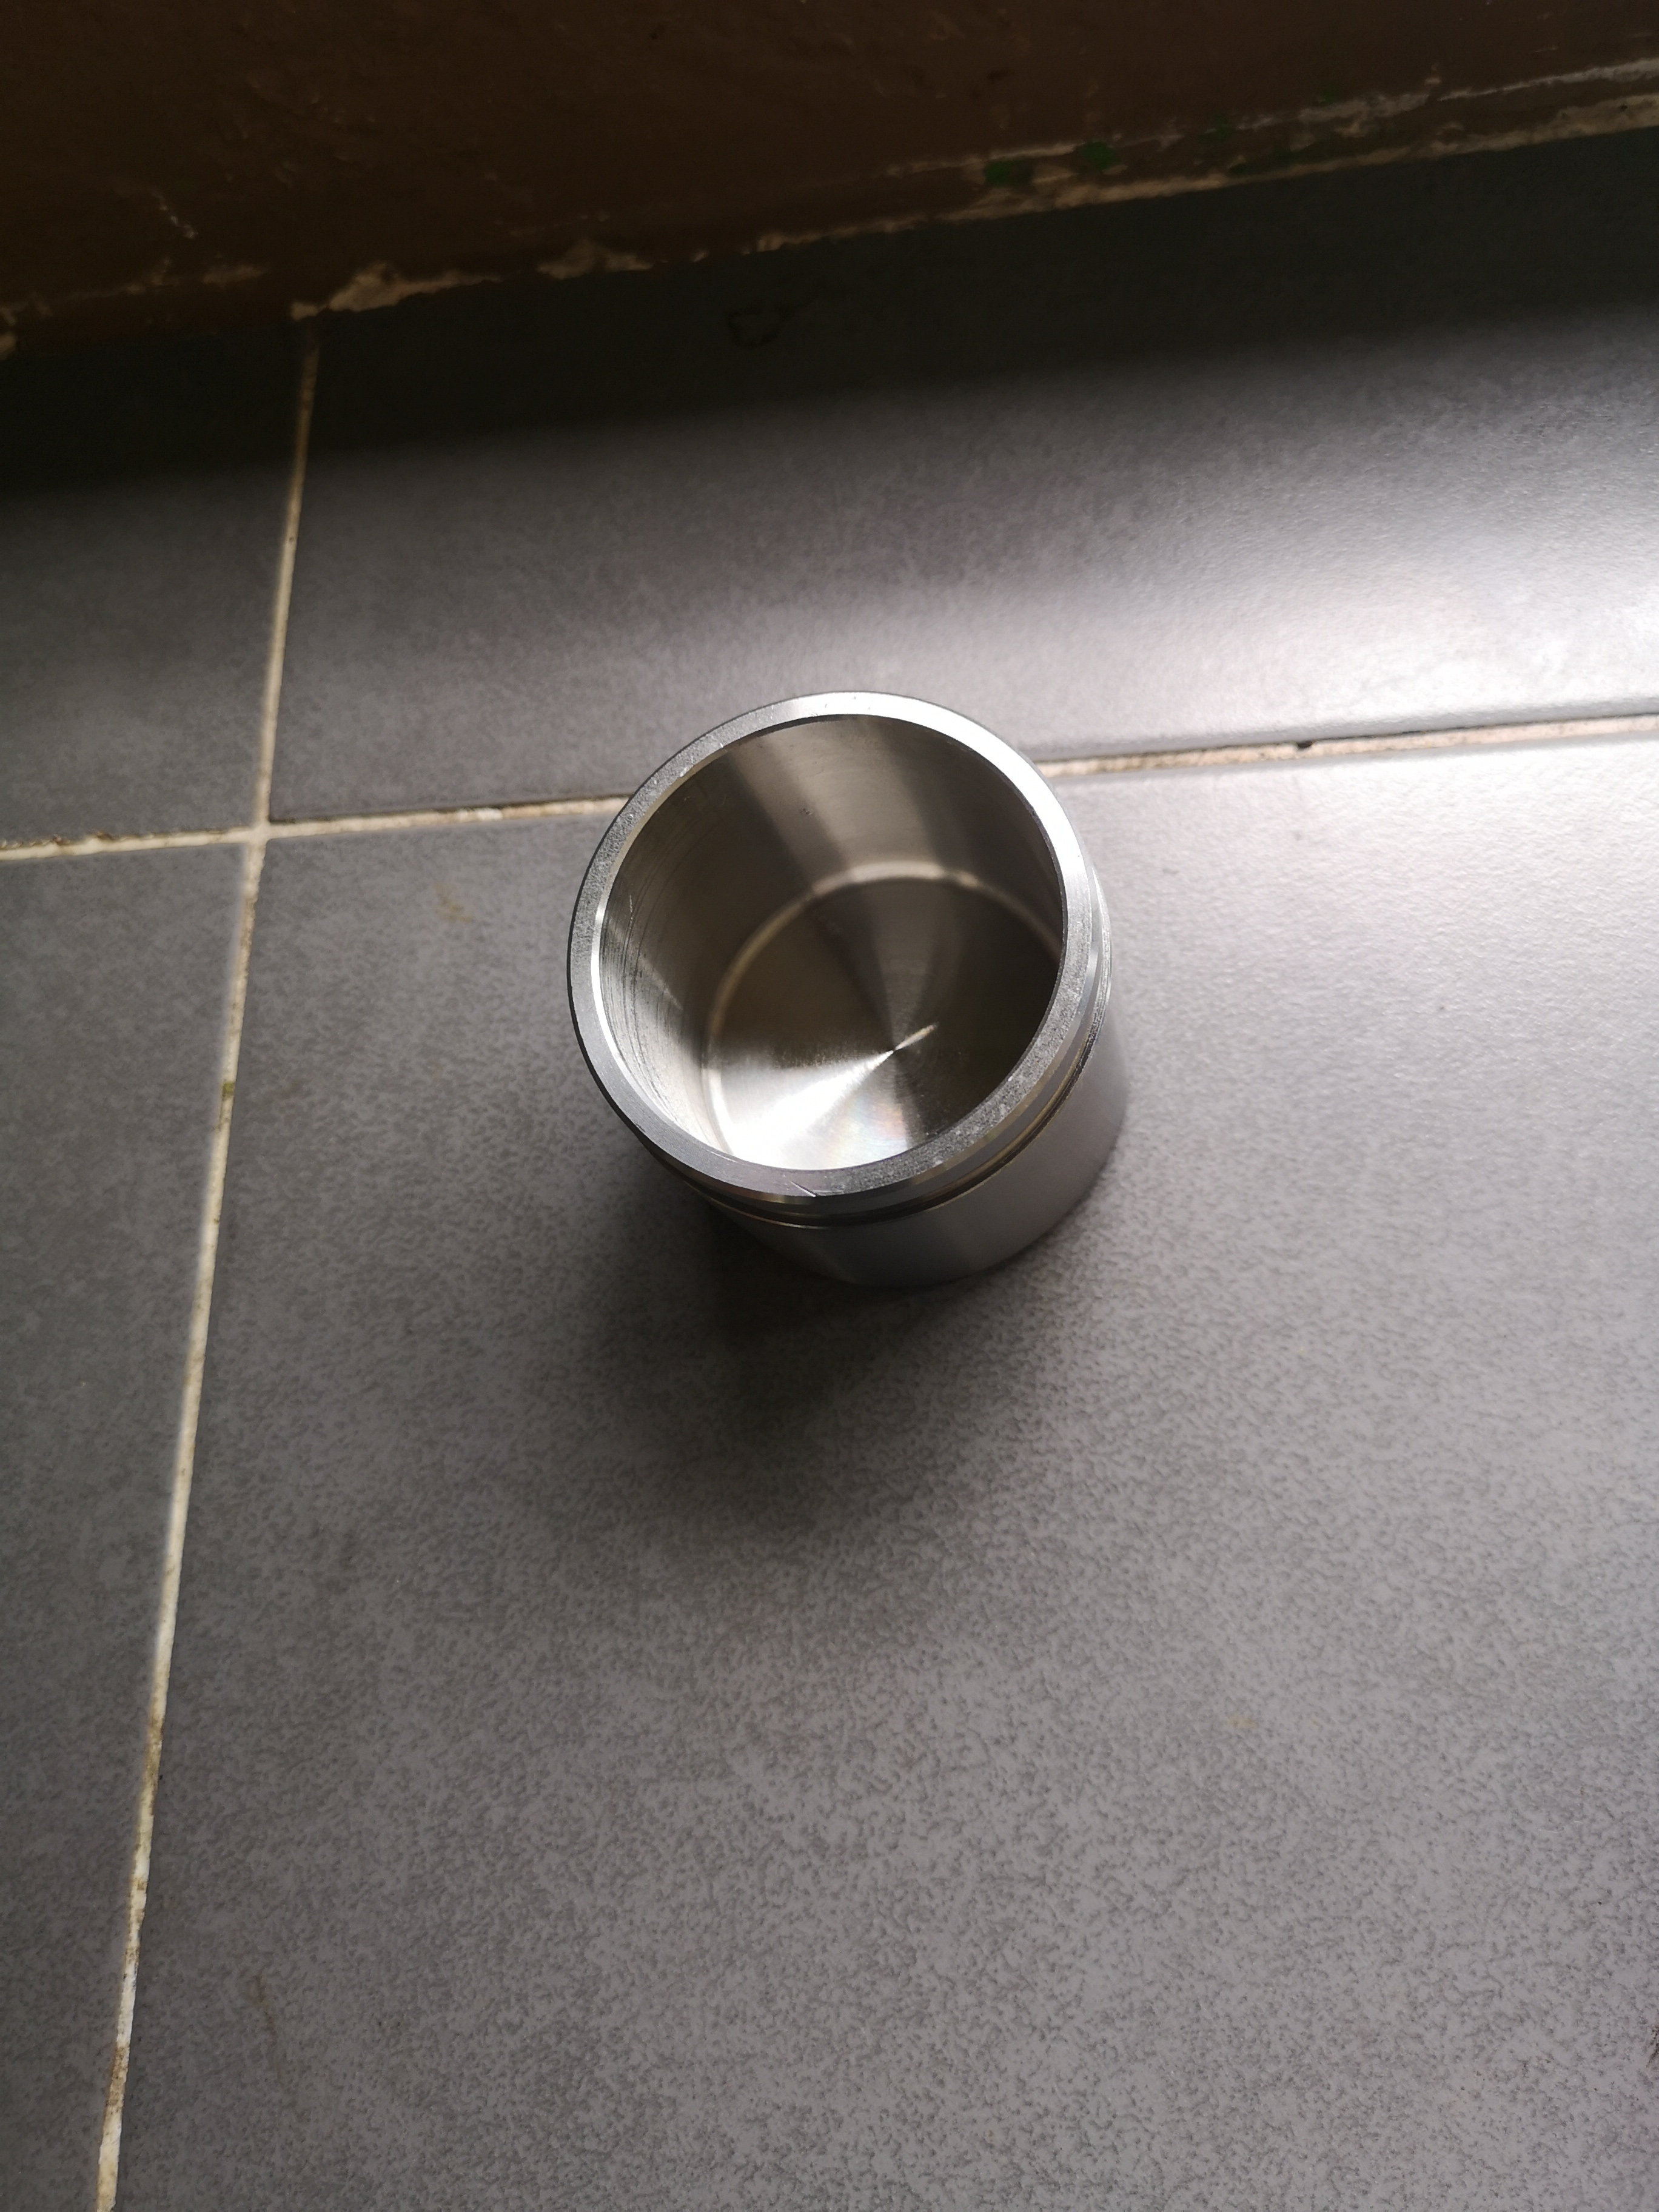ลูกสูบดิสเบรค: (542, 657, 1155, 1271)
